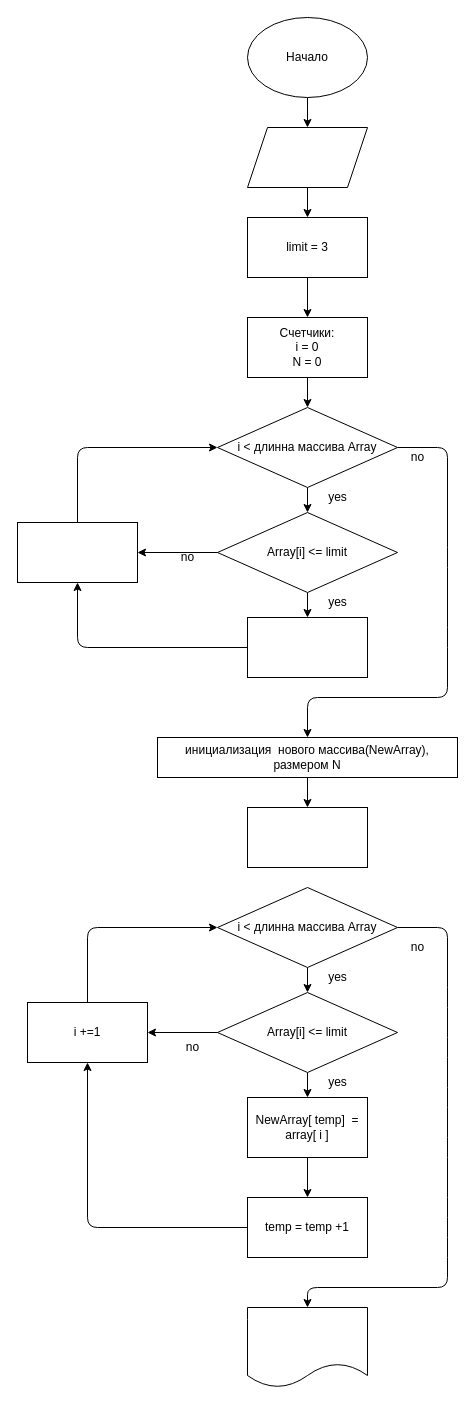
Image size: 475x1405. Some labels were removed from this diagram. The shapes that lost their labels are listed below. From the top down, each one's centre as x and y in pixels, then its label:
the point at 307,157: Array
the point at 77,552: i += 1
the point at 307,647: N +=1
the point at 307,837: Счетчики: temp = 0 i = 0
the point at 307,1347: NewArray
